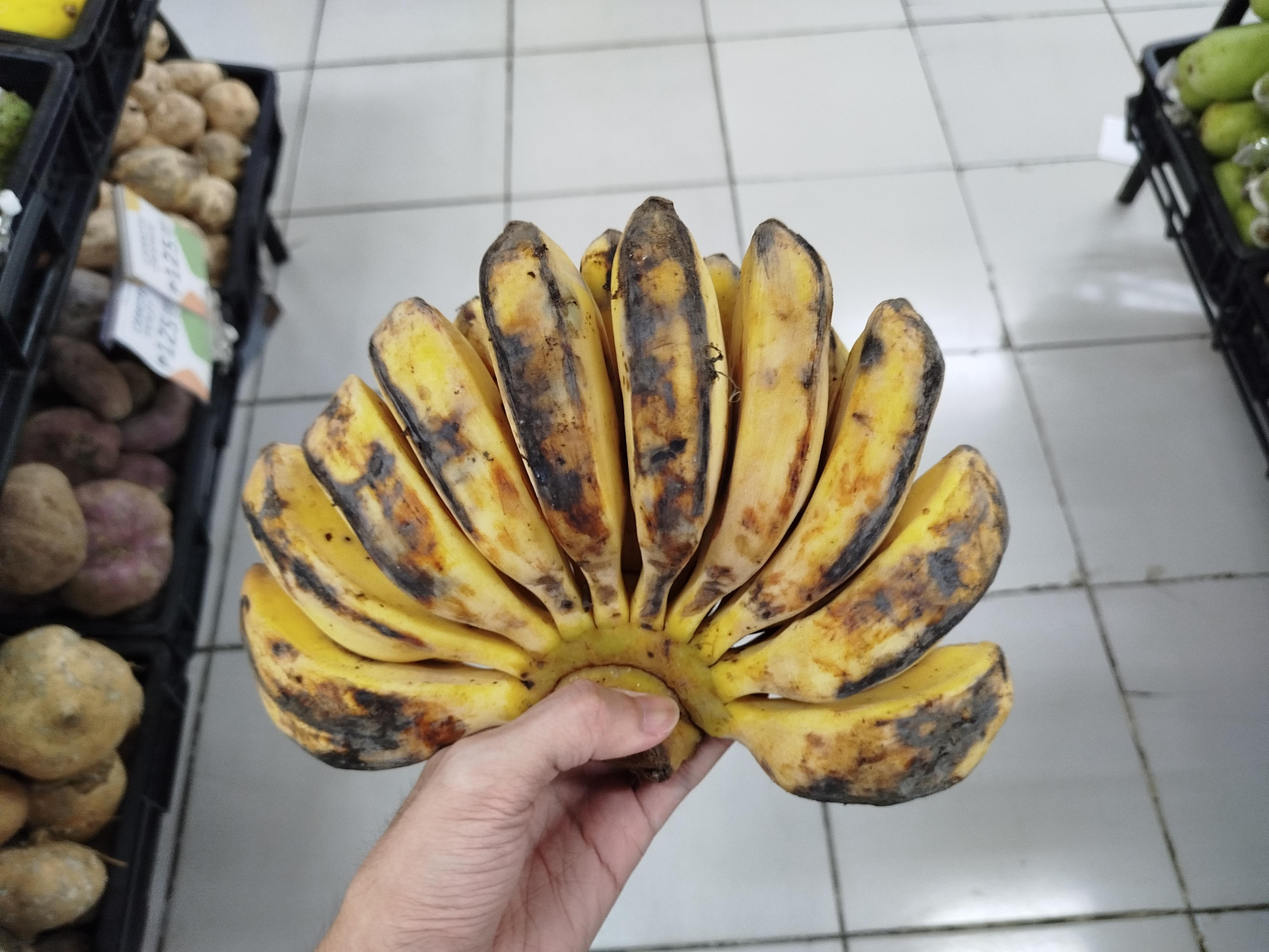ripe: (242, 197, 1013, 805)
